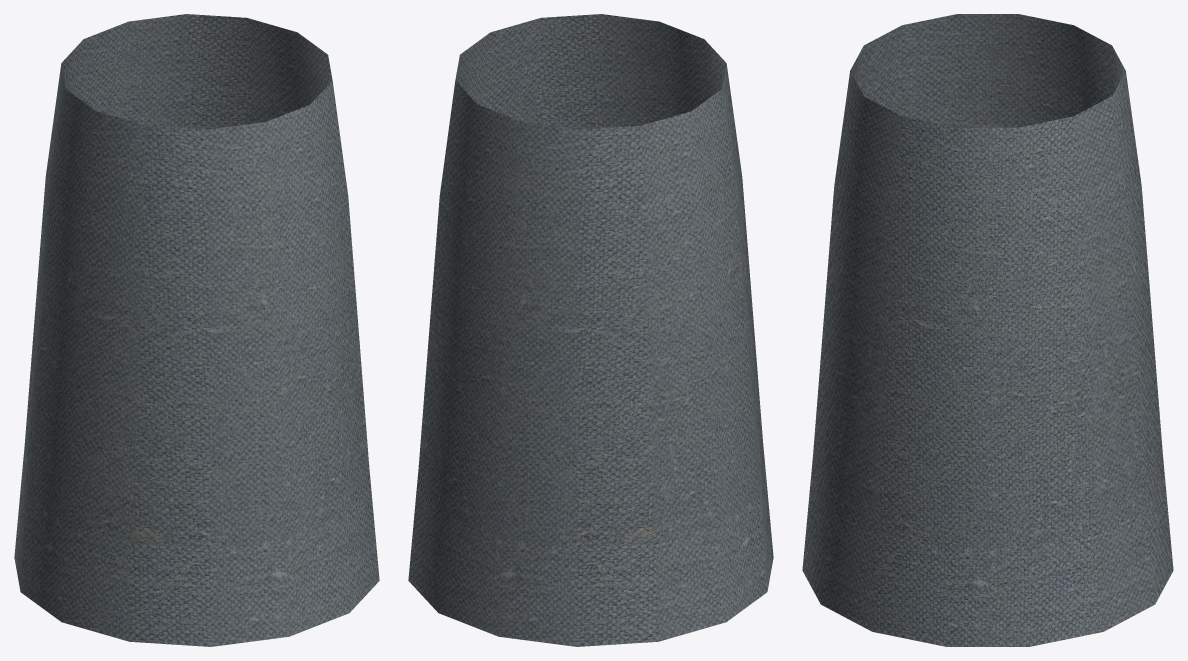
The model's file is sleeve-fore.glb.
The picture shows the model from 3 angles, left to right: view 1: azimuth 30°, elevation 25°; view 2: azimuth 150°, elevation 25°; view 3: azimuth 270°, elevation 25°; orthographic projection.
Visible parts, largest first — view 1: SleeveForeCloth; view 2: SleeveForeCloth; view 3: SleeveForeCloth.
Boxes of the visible parts, bbox=[...] form: SleeveForeCloth: bbox=[14, 14, 379, 646]; SleeveForeCloth: bbox=[408, 14, 773, 646]; SleeveForeCloth: bbox=[802, 14, 1173, 646].
Bounding box in the file's own units: 0.3412 × 0.52 × 0.35.
1 material, 1 textured.
